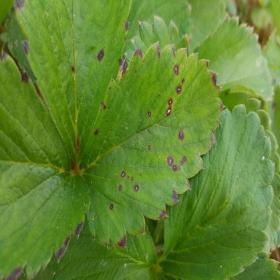Leaf Spot: (79, 41, 226, 248), (12, 0, 133, 168)
